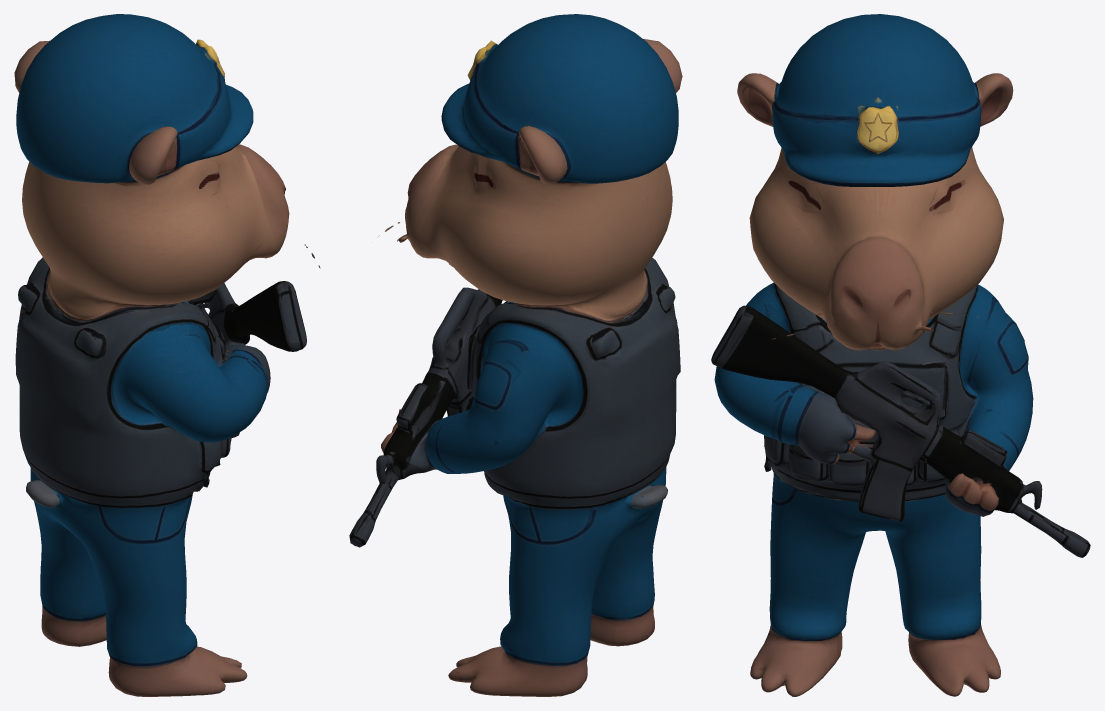
The model's file is tripo_convert_27766148-c05b-4c65-998d-45392c42eb30.fbx.
3 views of the same model, side by side, from view 1: azimuth 30°, elevation 25°; view 2: azimuth 150°, elevation 25°; view 3: azimuth 270°, elevation 25° (orthographic).
Visible parts, largest first — view 1: tripo_node_27766148; view 2: tripo_node_27766148; view 3: tripo_node_27766148.
Part boxes in pixels (box(x1,y1,x2,y2)): tripo_node_27766148: box(14, 14, 320, 696); tripo_node_27766148: box(349, 14, 682, 696); tripo_node_27766148: box(711, 14, 1090, 696).
Size of the model in its own units: 0.417 by 1 by 0.541.
1 material, 1 textured.
